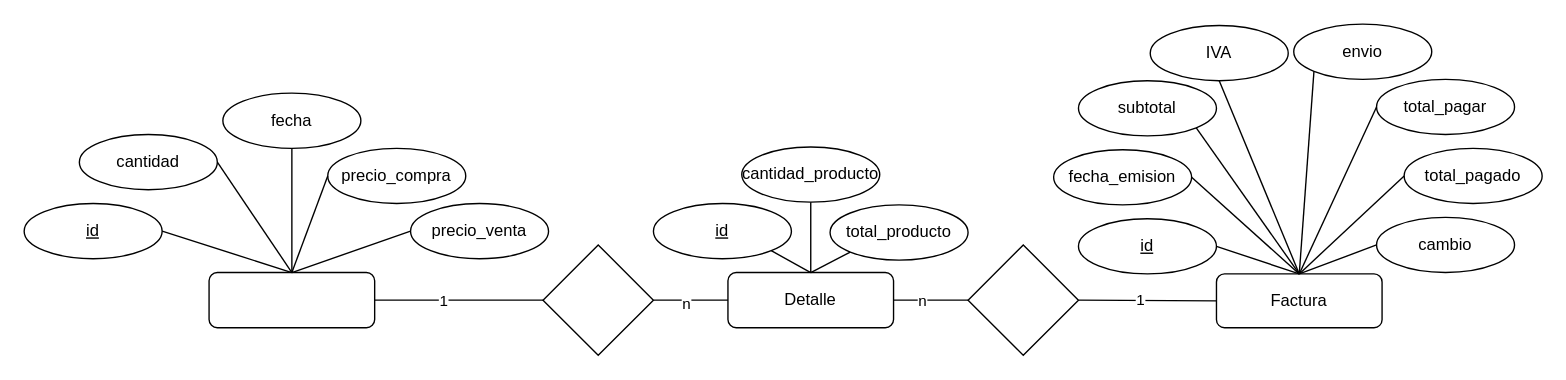
This 1566x380 diagram has some shape labels left out. The shapes that lost their labels are listed below. From the top down, each one's box as (x1, y1, x2, y2) in pixels, then its label:
(208, 271, 375, 328): Inventario
(542, 244, 653, 355): agrega
(967, 244, 1078, 355): tiene
